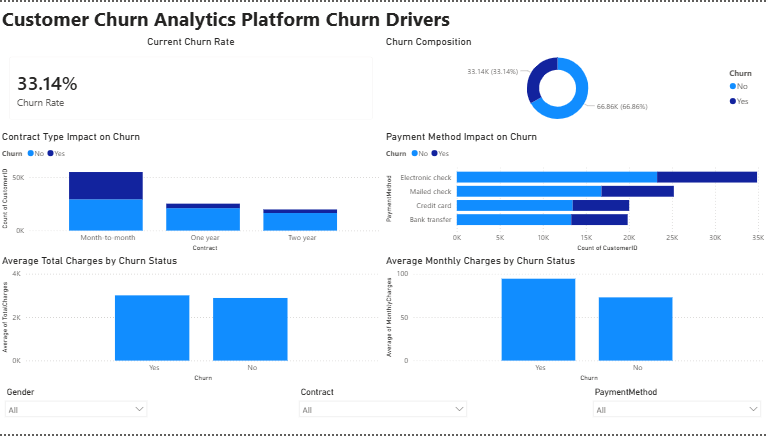

What the dashboard file says about the page in this screenshot:
{"tool":"powerbi","page":{"name":"Churn Drivers","canvas":[1280,720],"ordinal":2},"visuals":[{"type":"textbox","box":[0,0,1280,54.3],"z":0},{"type":"columnChart","title":"Contract Type Impact on Churn","fields":{"Category":["churn_final.Contract"],"Y":["CountNonNull(churn_final.CustomerID)"],"Series":["churn_final.Churn"]},"box":[0,213.3,640,206.7],"z":1},{"type":"clusteredColumnChart","title":"Average Monthly Charges by Churn Status","fields":{"Category":["churn_final.Churn"],"Y":["Avg(churn_final.MonthlyCharges)"]},"box":[640,420,640,216.7],"z":2},{"type":"clusteredColumnChart","title":"Average Total Charges by Churn Status","fields":{"Category":["churn_final.Churn"],"Y":["Avg(churn_final.TotalCharges)"]},"box":[0,420,640,216.7],"z":3},{"type":"barChart","title":"Payment Method Impact on Churn","fields":{"Category":["churn_final.PaymentMethod"],"Y":["CountNonNull(churn_final.CustomerID)"],"Series":["churn_final.Churn"]},"box":[640,213.3,640,206.7],"z":4},{"type":"cardVisual","title":"Current Churn Rate","fields":{"Data":["churn_final.Churn Rate"]},"box":[0,55,640,158.3],"z":5},{"type":"donutChart","title":"Churn Composition","fields":{"Category":["churn_final.Churn"],"Y":["CountNonNull(churn_final.CustomerID)"]},"box":[640,55,640,158.3],"z":6},{"type":"slicer","fields":{"Values":["churn_final.Gender"]},"box":[0,636.7,256.7,83.3],"z":7},{"type":"slicer","fields":{"Values":["churn_final.Contract"]},"box":[490,636.7,300,83.3],"z":8},{"type":"slicer","fields":{"Values":["churn_final.PaymentMethod"]},"box":[980,636.7,300,83.3],"z":9}]}

Visuals, with their boxes in screenshot pixels (x1, y1, x2, y2), scaled from the page's 1280x720 canvas onto the 766x436 screenshot:
textbox: bbox=(0, 0, 765, 33)
"Contract Type Impact on Churn" columnChart: bbox=(0, 129, 383, 254)
"Average Monthly Charges by Churn Status" clusteredColumnChart: bbox=(383, 254, 765, 386)
"Average Total Charges by Churn Status" clusteredColumnChart: bbox=(0, 254, 383, 386)
"Payment Method Impact on Churn" barChart: bbox=(383, 129, 765, 254)
"Current Churn Rate" cardVisual: bbox=(0, 33, 383, 129)
"Churn Composition" donutChart: bbox=(383, 33, 765, 129)
slicer - churn_final.Gender: bbox=(0, 386, 154, 435)
slicer - churn_final.Contract: bbox=(293, 386, 473, 435)
slicer - churn_final.PaymentMethod: bbox=(586, 386, 765, 435)
